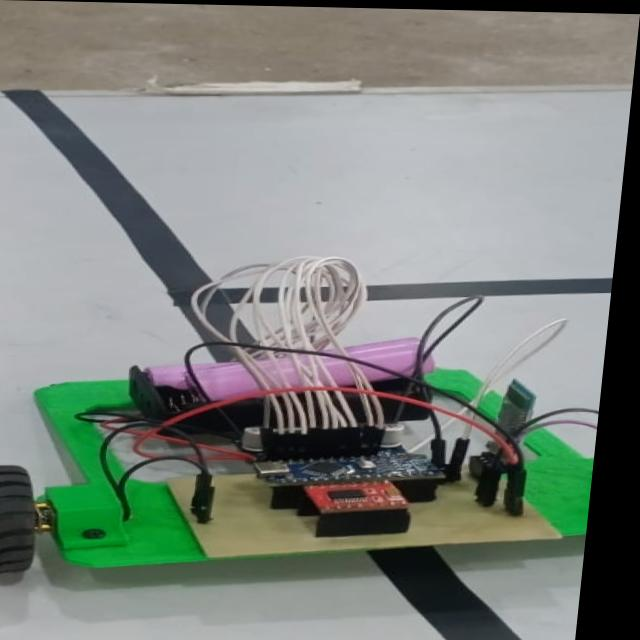vehicle: (0, 247, 614, 585)
